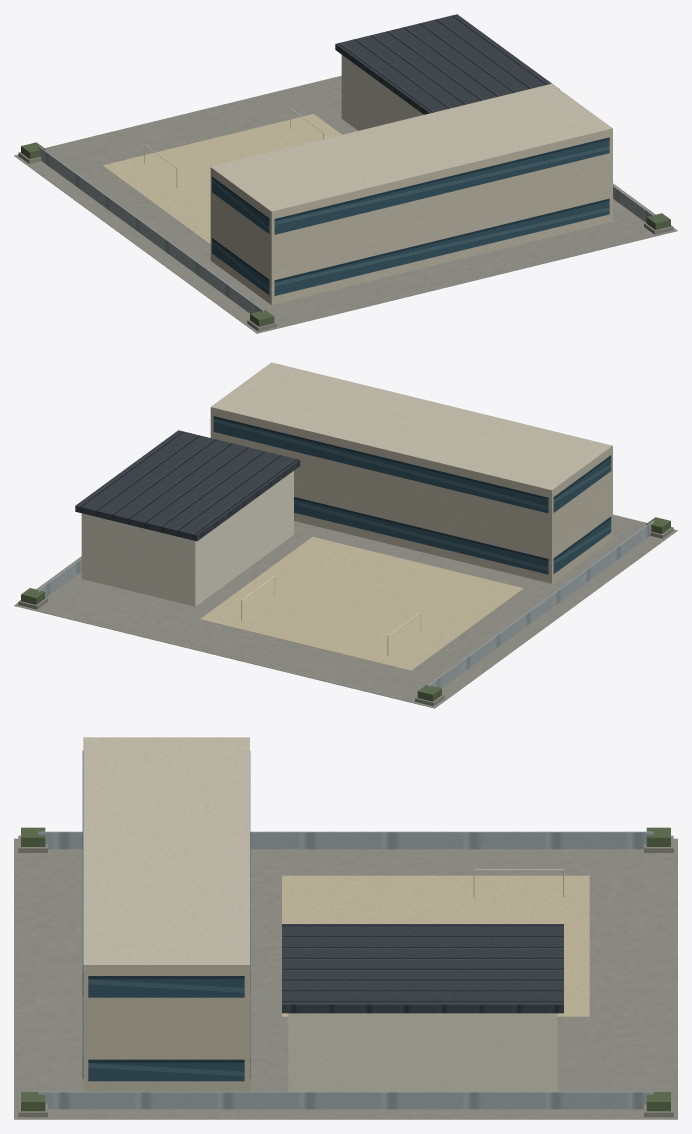
The model's file is school_001.lod1.obj.
3 renders of one model, top to bottom at view 1: azimuth 30°, elevation 25°; view 2: azimuth 150°, elevation 25°; view 3: azimuth 270°, elevation 25°, orthographic. The views are drawn at different scales.
Parts seen in each view (by area): view 1: school_001.lod1; view 2: school_001.lod1; view 3: school_001.lod1.
Part boxes in pixels (<box>): school_001.lod1: <box>14,14,677,333</box>; school_001.lod1: <box>14,362,677,708</box>; school_001.lod1: <box>14,737,677,1119</box>.
Size of the model in its own units: 51.8 by 11.04 by 51.8.
Materials: 1 (1 with a texture image).
